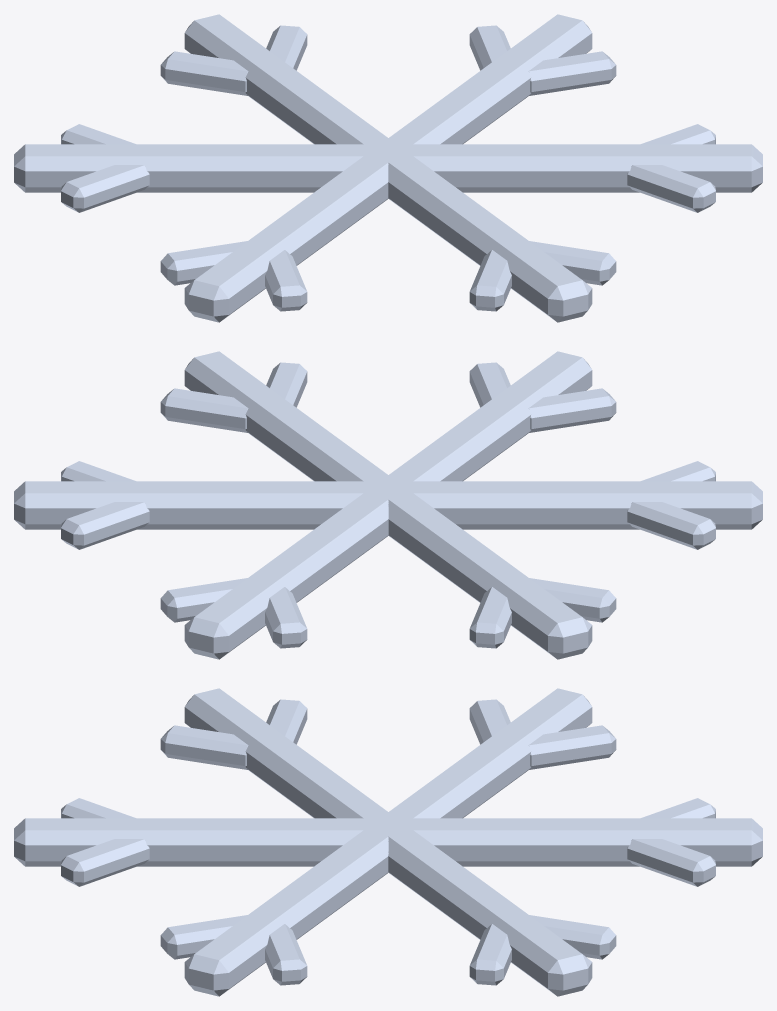
The model's file is Snowflake1.fbx.
The picture shows the model from 3 angles, top to bottom: view 1: azimuth 30°, elevation 25°; view 2: azimuth 150°, elevation 25°; view 3: azimuth 270°, elevation 25°; orthographic projection.
Parts seen in each view (by area): view 1: Snowflake1; view 2: Snowflake1; view 3: Snowflake1.
Part boxes in pixels (x1,y1,x2,y2): Snowflake1: (14,14,762,322); Snowflake1: (14,351,762,659); Snowflake1: (14,688,762,996).
Bounding box in the file's own units: 30.14 × 1.83 × 34.05.
